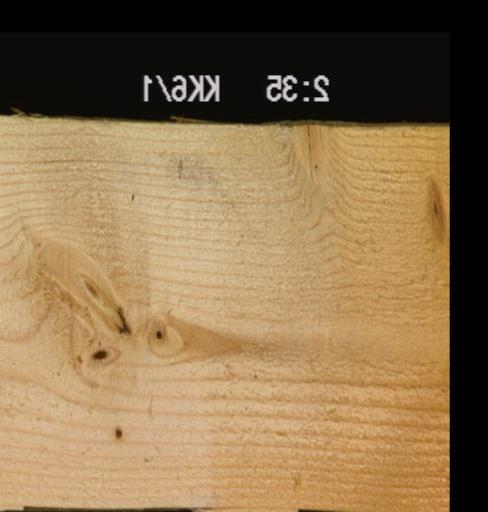small_knot: (144, 319, 170, 346), (106, 422, 127, 438)
